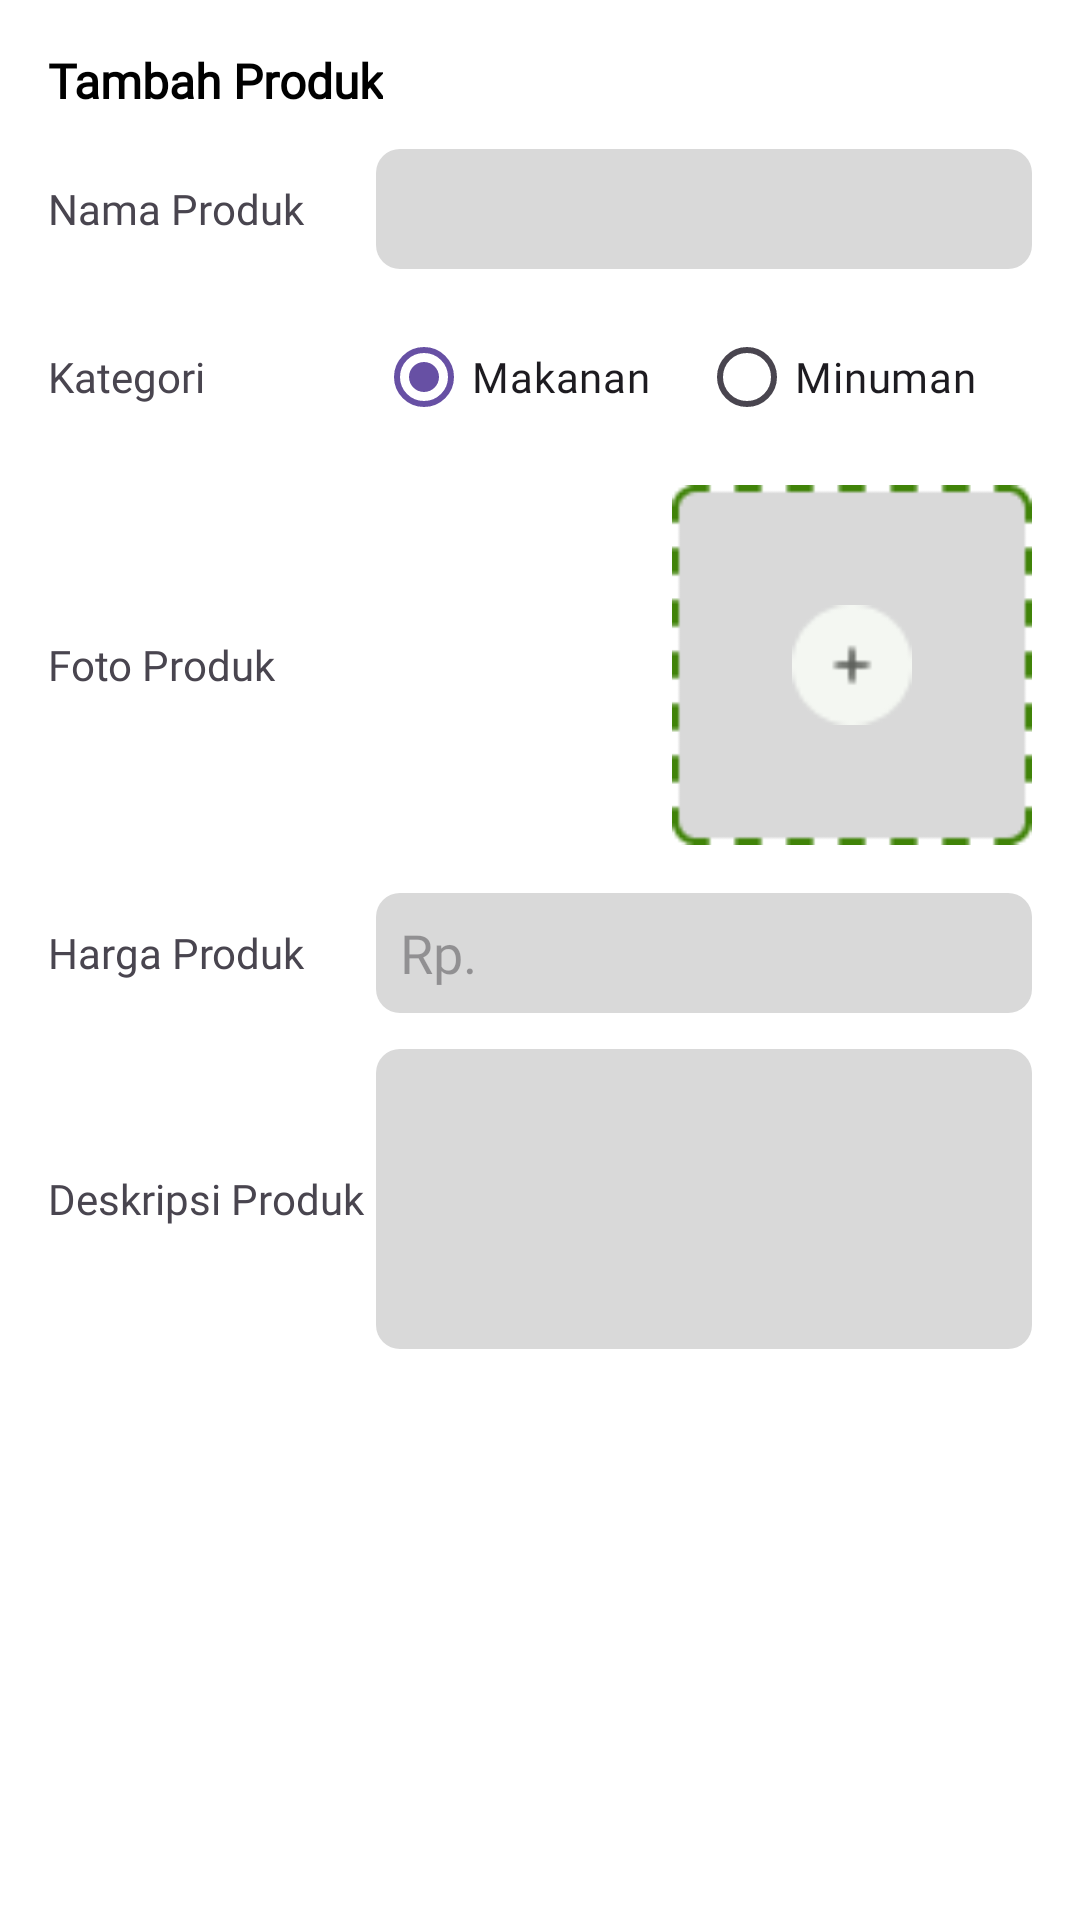

Where to tap for icons on this 1080 x 1920 app screen, as (x=x, y=y):
Tambah Foto: (x=852, y=665)
